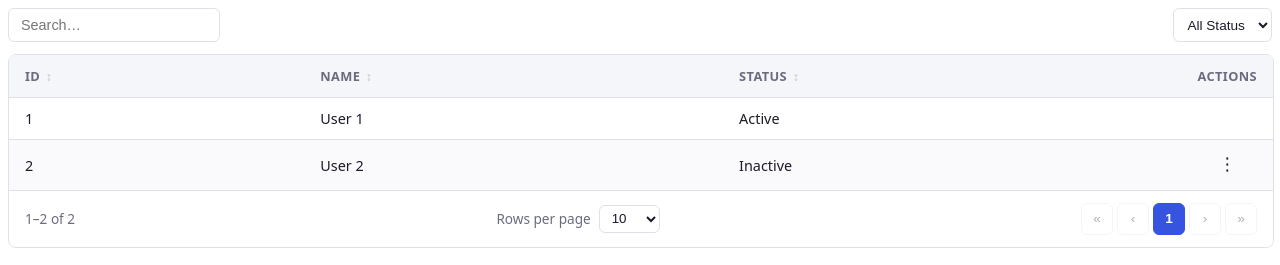
Scenario: <Table> › hides an action for rows for which it is marked hidden
The image size is (1280, 265).
Click the button named "Row actions": (1227, 165) x1=1210 y1=152 x2=1244 y2=179
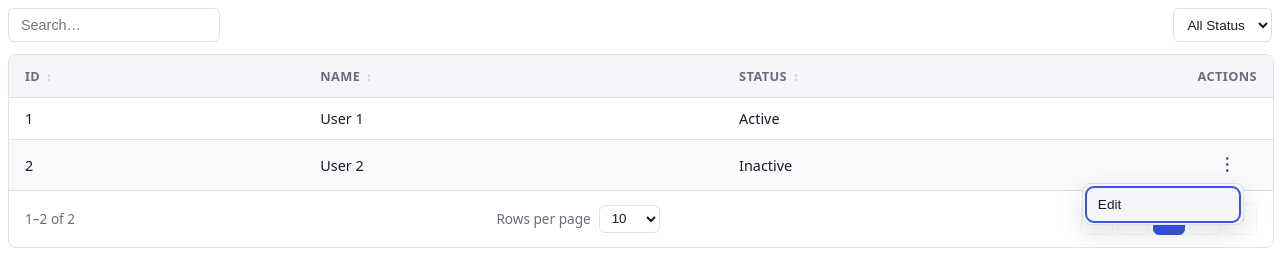
Now the menu item "Edit" is shown, box x1=1088 y1=188 x2=1238 y2=220
